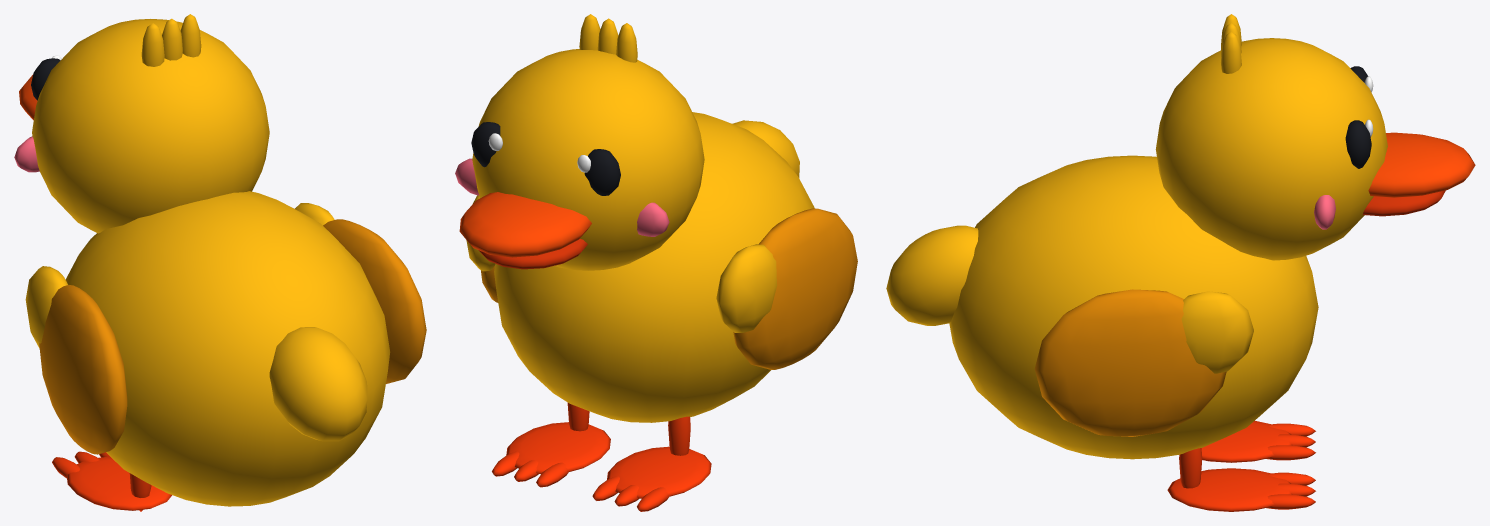
File: Duckling.fbx
3 renders of one model, left to right at view 1: azimuth 30°, elevation 25°; view 2: azimuth 150°, elevation 25°; view 3: azimuth 270°, elevation 25°, orthographic. The views are drawn at different scales.
Parts seen in each view (by area): view 1: Duckling; view 2: Duckling; view 3: Duckling.
Part boxes in pixels (left/top/right/bottom): Duckling: left=14, top=14, right=426, bottom=511; Duckling: left=455, top=14, right=857, bottom=511; Duckling: left=886, top=14, right=1475, bottom=511.
Size of the model in its own units: 319 by 432 by 507.
